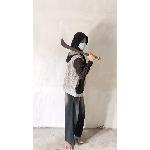Golok: (57, 38, 106, 61)
